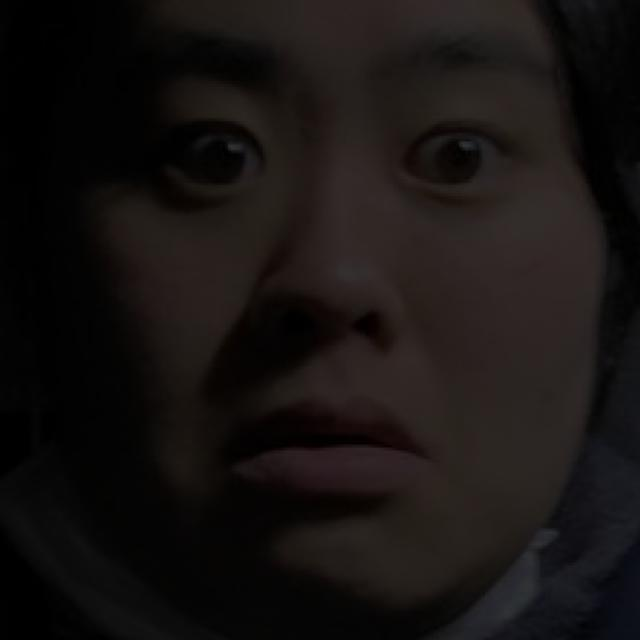Surprised: (70, 0, 575, 549)
